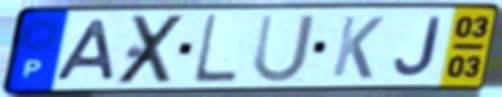A: (52, 17, 118, 84)
J: (391, 15, 444, 79)
K: (328, 14, 387, 82)
L: (190, 12, 240, 86)
U: (250, 12, 319, 85)
X: (113, 12, 190, 87)
